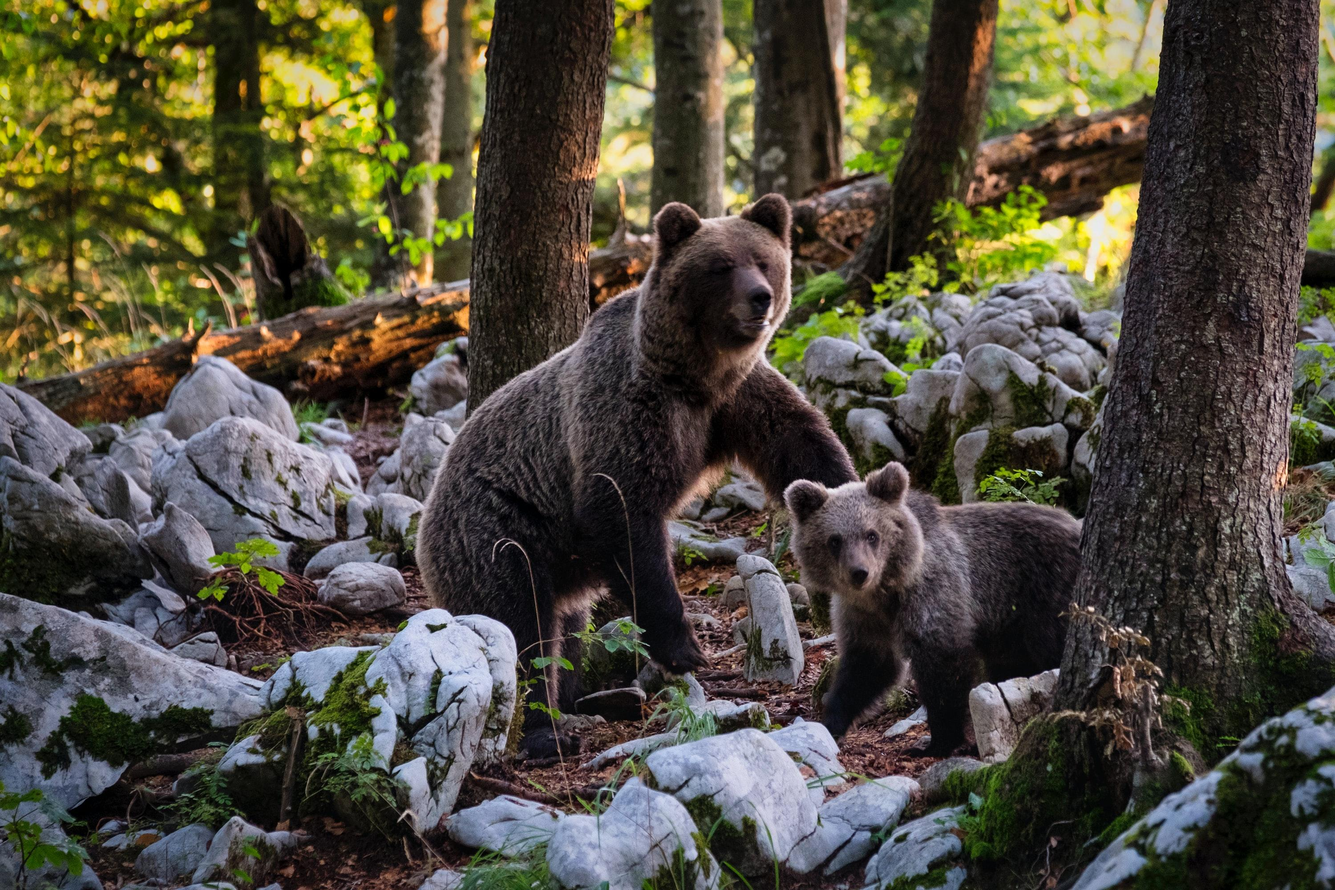ball: (417, 195, 1081, 756)
